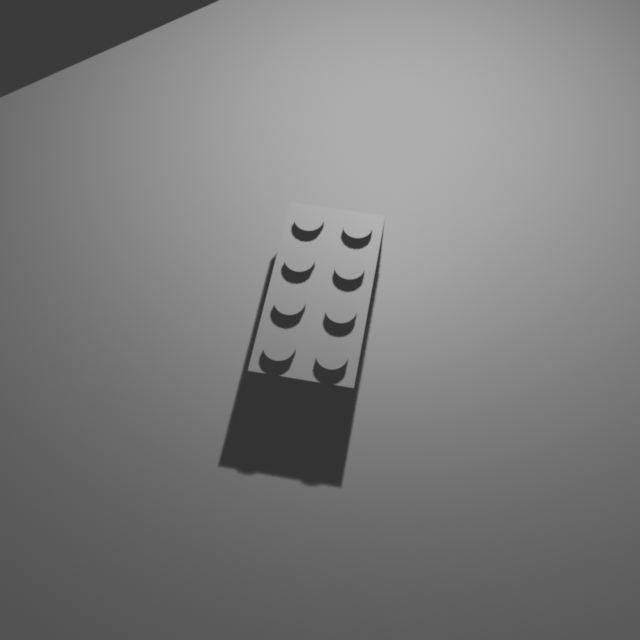lego_2x4: (247, 196, 386, 415)
